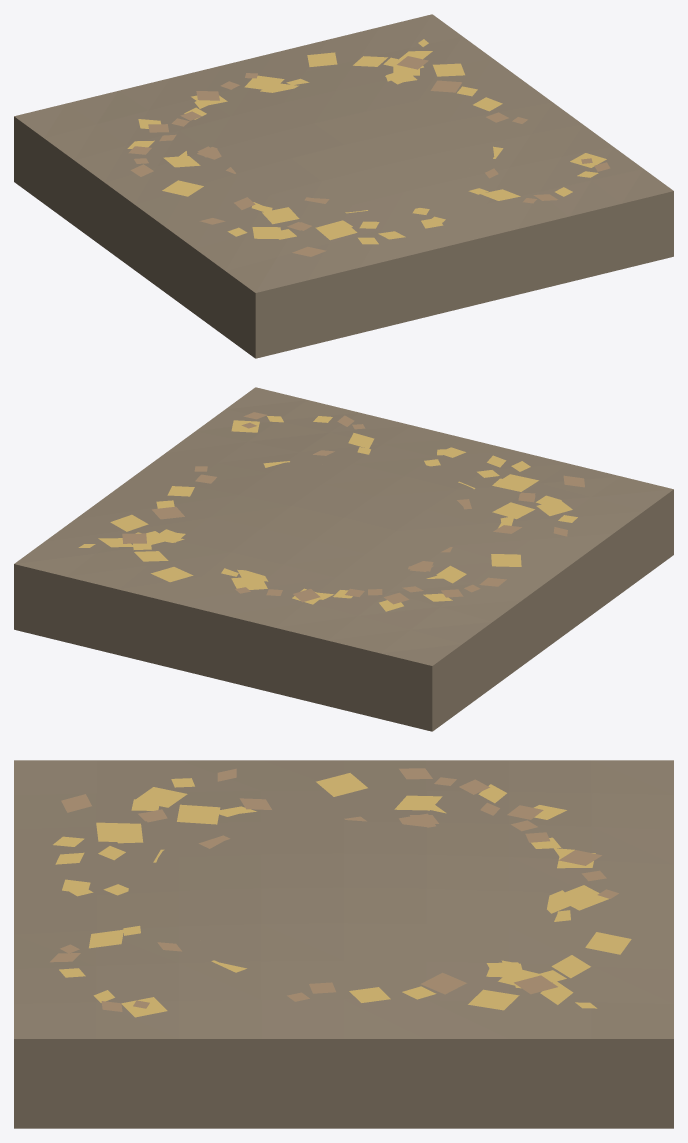
Rendered from leaf-litter-tile.glb.
3 views of the same model, one above another, from view 1: azimuth 30°, elevation 25°; view 2: azimuth 150°, elevation 25°; view 3: azimuth 270°, elevation 25° (orthographic). The views are drawn at different scales.
Parts seen in each view (by area): view 1: leaf-litter-tile; view 2: leaf-litter-tile; view 3: leaf-litter-tile.
Boxes of the visible parts, x1,y1,x2,y2 form: leaf-litter-tile: (14,14,673,358); leaf-litter-tile: (14,387,673,731); leaf-litter-tile: (14,760,673,1128).
Size of the model in its own units: 2 by 0.3399 by 2.
